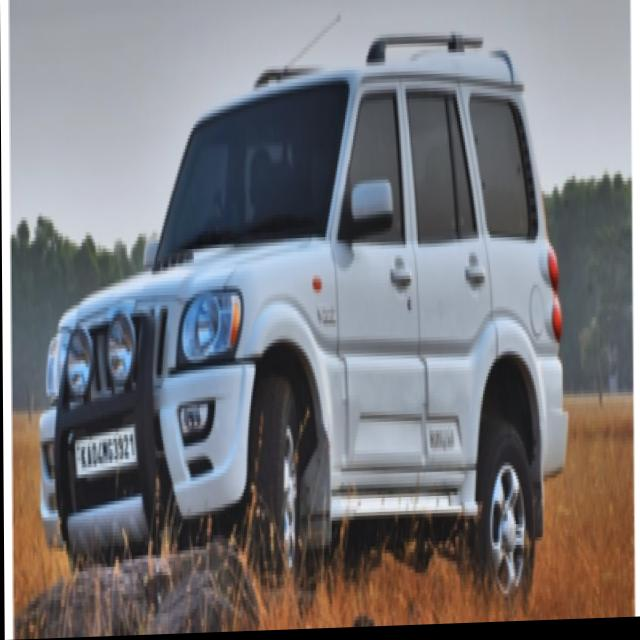licence: (68, 429, 139, 469)
